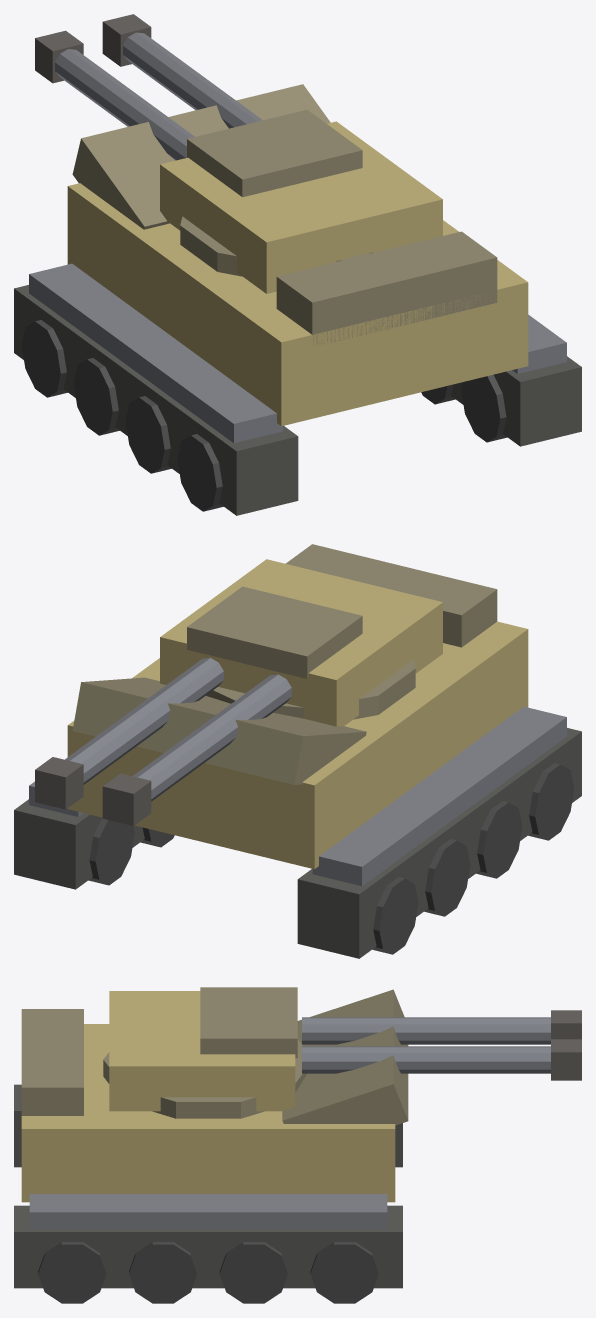
File: dm_mammoth.glb
The picture shows the model from 3 angles, top to bottom: view 1: azimuth 30°, elevation 25°; view 2: azimuth 150°, elevation 25°; view 3: azimuth 270°, elevation 25°; orthographic projection. The views are drawn at different scales.
Parts seen in each view (by area): view 1: hull, turret; view 2: hull, turret; view 3: hull, turret.
Part boxes in pixels (x1,y1,x2,y2): hull: (14, 84, 581, 515); turret: (35, 14, 442, 293); hull: (14, 544, 581, 958); turret: (35, 559, 442, 825); hull: (14, 989, 408, 1303); turret: (103, 987, 581, 1118).
Size of the model in its own units: 1.16 by 0.7596 by 1.83.
